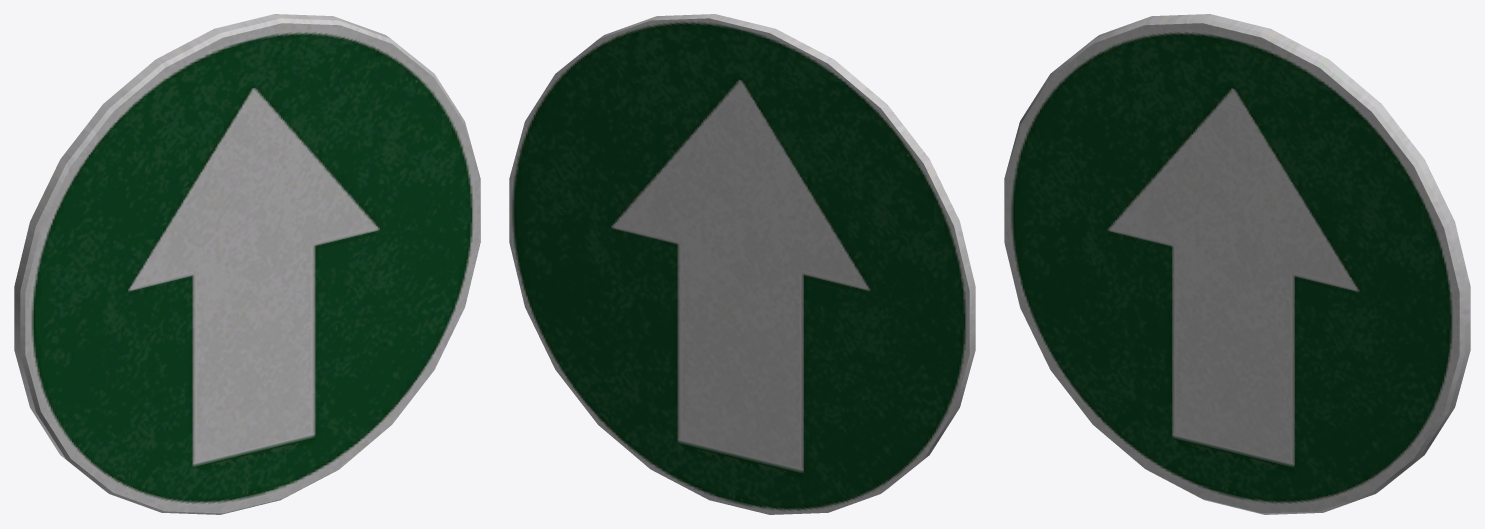
Rendered from sign_direction_arrow_green.dae.
3 renders of one model, left to right at view 1: azimuth 30°, elevation 25°; view 2: azimuth 150°, elevation 25°; view 3: azimuth 330°, elevation 25°, orthographic.
Visible parts, largest first — view 1: green; view 2: green; view 3: green.
Part boxes in pixels (box(x1,y1,x2,y2)): green: box(14, 14, 480, 514); green: box(509, 14, 975, 514); green: box(1004, 14, 1470, 514).
Size of the model in its own units: 37.55 by 37.55 by 1.16.
